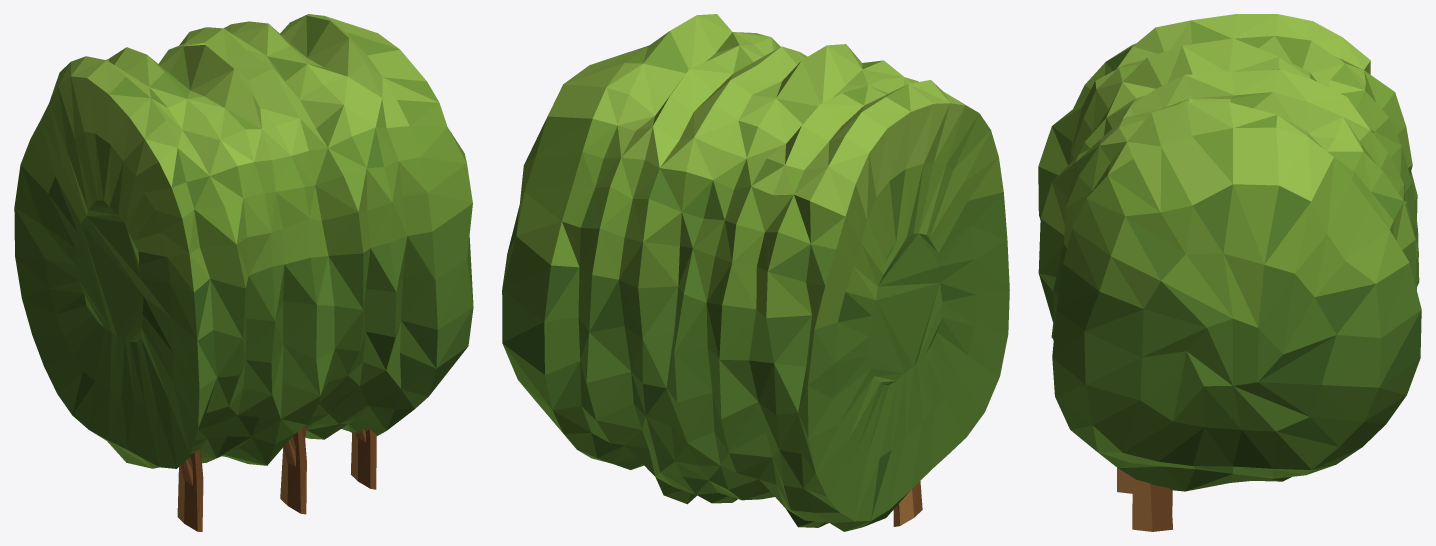
Rendered from FMS_Hedge_End.fbx.
3 renders of one model, left to right at view 1: azimuth 30°, elevation 25°; view 2: azimuth 150°, elevation 25°; view 3: azimuth 270°, elevation 25°, orthographic. The views are drawn at different scales.
Visible parts, largest first — view 1: FMS_Hedge_End; view 2: FMS_Hedge_End; view 3: FMS_Hedge_End.
Boxes of the visible parts, x1,y1,x2,y2 form: FMS_Hedge_End: (14, 14, 473, 531); FMS_Hedge_End: (502, 14, 1009, 531); FMS_Hedge_End: (1038, 14, 1421, 531).
Bounding box in the file's own units: 0.8 × 1 × 0.8.
